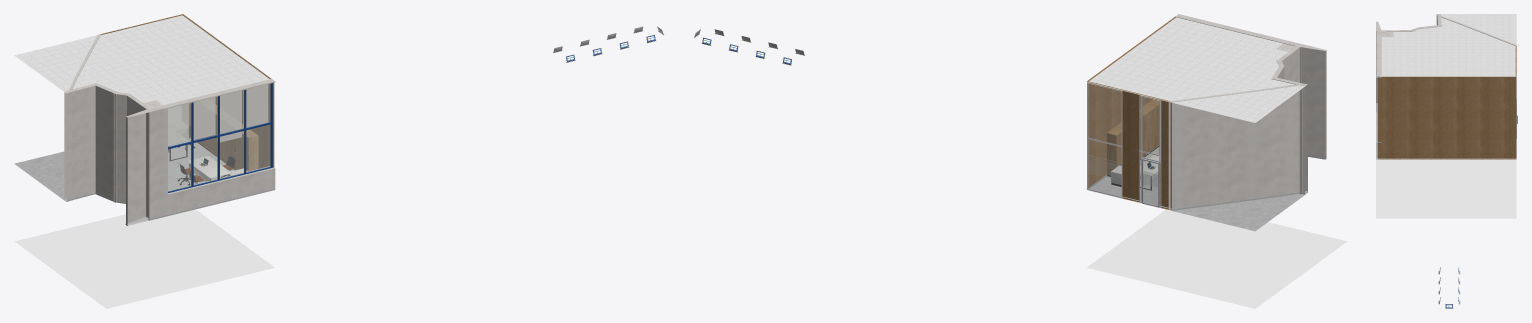
File: responsabile.glb
3 renders of one model, left to right at view 1: azimuth 30°, elevation 25°; view 2: azimuth 150°, elevation 25°; view 3: azimuth 270°, elevation 25°, orthographic. The views are drawn at different scales.
Parts seen in each view (by area): view 1: BAKE_statico, Vetri.001; view 2: BAKE_statico, Vetri.001, Anta03, Fasce satinate.001; view 3: BAKE_statico.
Boxes of the visible parts, left/top/right/bottom form: BAKE_statico: left=14, top=14, right=275, bottom=308; Vetri.001: left=168, top=84, right=270, bottom=191; BAKE_statico: left=1086, top=14, right=1347, bottom=308; Vetri.001: left=1088, top=83, right=1158, bottom=202; Anta03: left=1142, top=159, right=1159, bottom=207; Fasce satinate.001: left=1089, top=155, right=1120, bottom=180; BAKE_statico: left=1376, top=14, right=1516, bottom=218.
Bounding box in the file's own units: 29.23 × 8.62 × 7.8.
27 materials, 8 textured.
